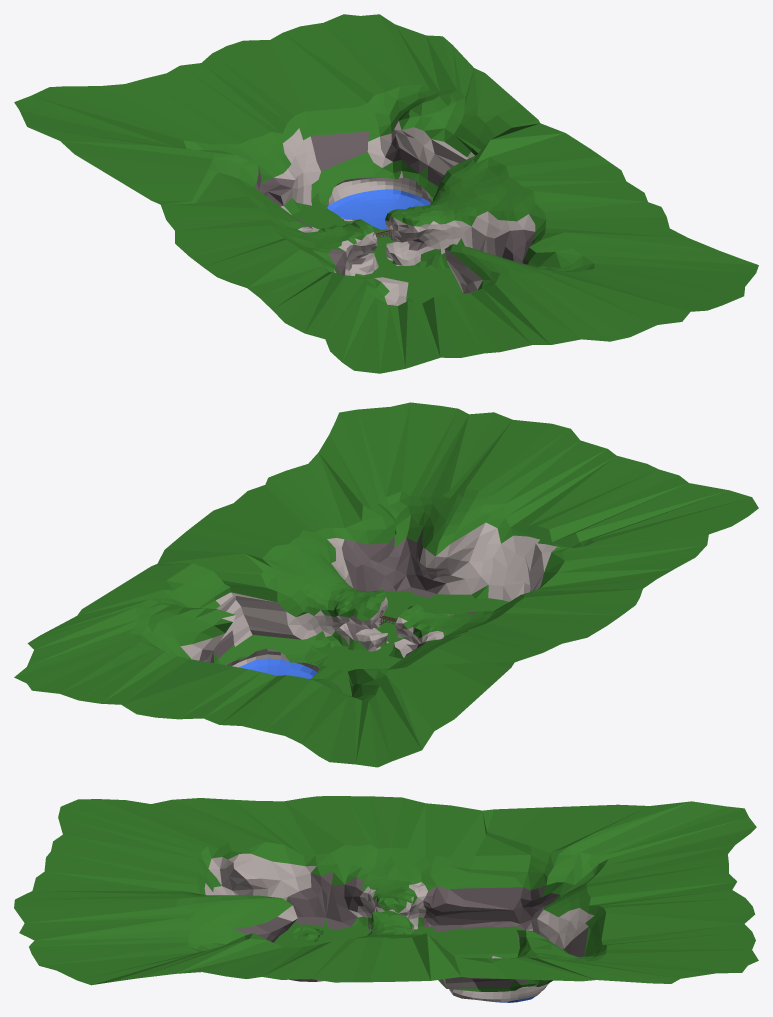
The model's file is groundMap.glb.
3 renders of one model, top to bottom at view 1: azimuth 30°, elevation 25°; view 2: azimuth 150°, elevation 25°; view 3: azimuth 270°, elevation 25°, orthographic. The views are drawn at different scales.
Parts seen in each view (by area): view 1: playground; view 2: playground; view 3: playground.
Boxes of the visible parts, <box> form: playground: <box>14,14,758,373</box>; playground: <box>14,402,758,767</box>; playground: <box>14,796,758,1002</box>.
Size of the model in its own units: 141 by 29.63 by 234.
Materials: 1 (1 with a texture image).
